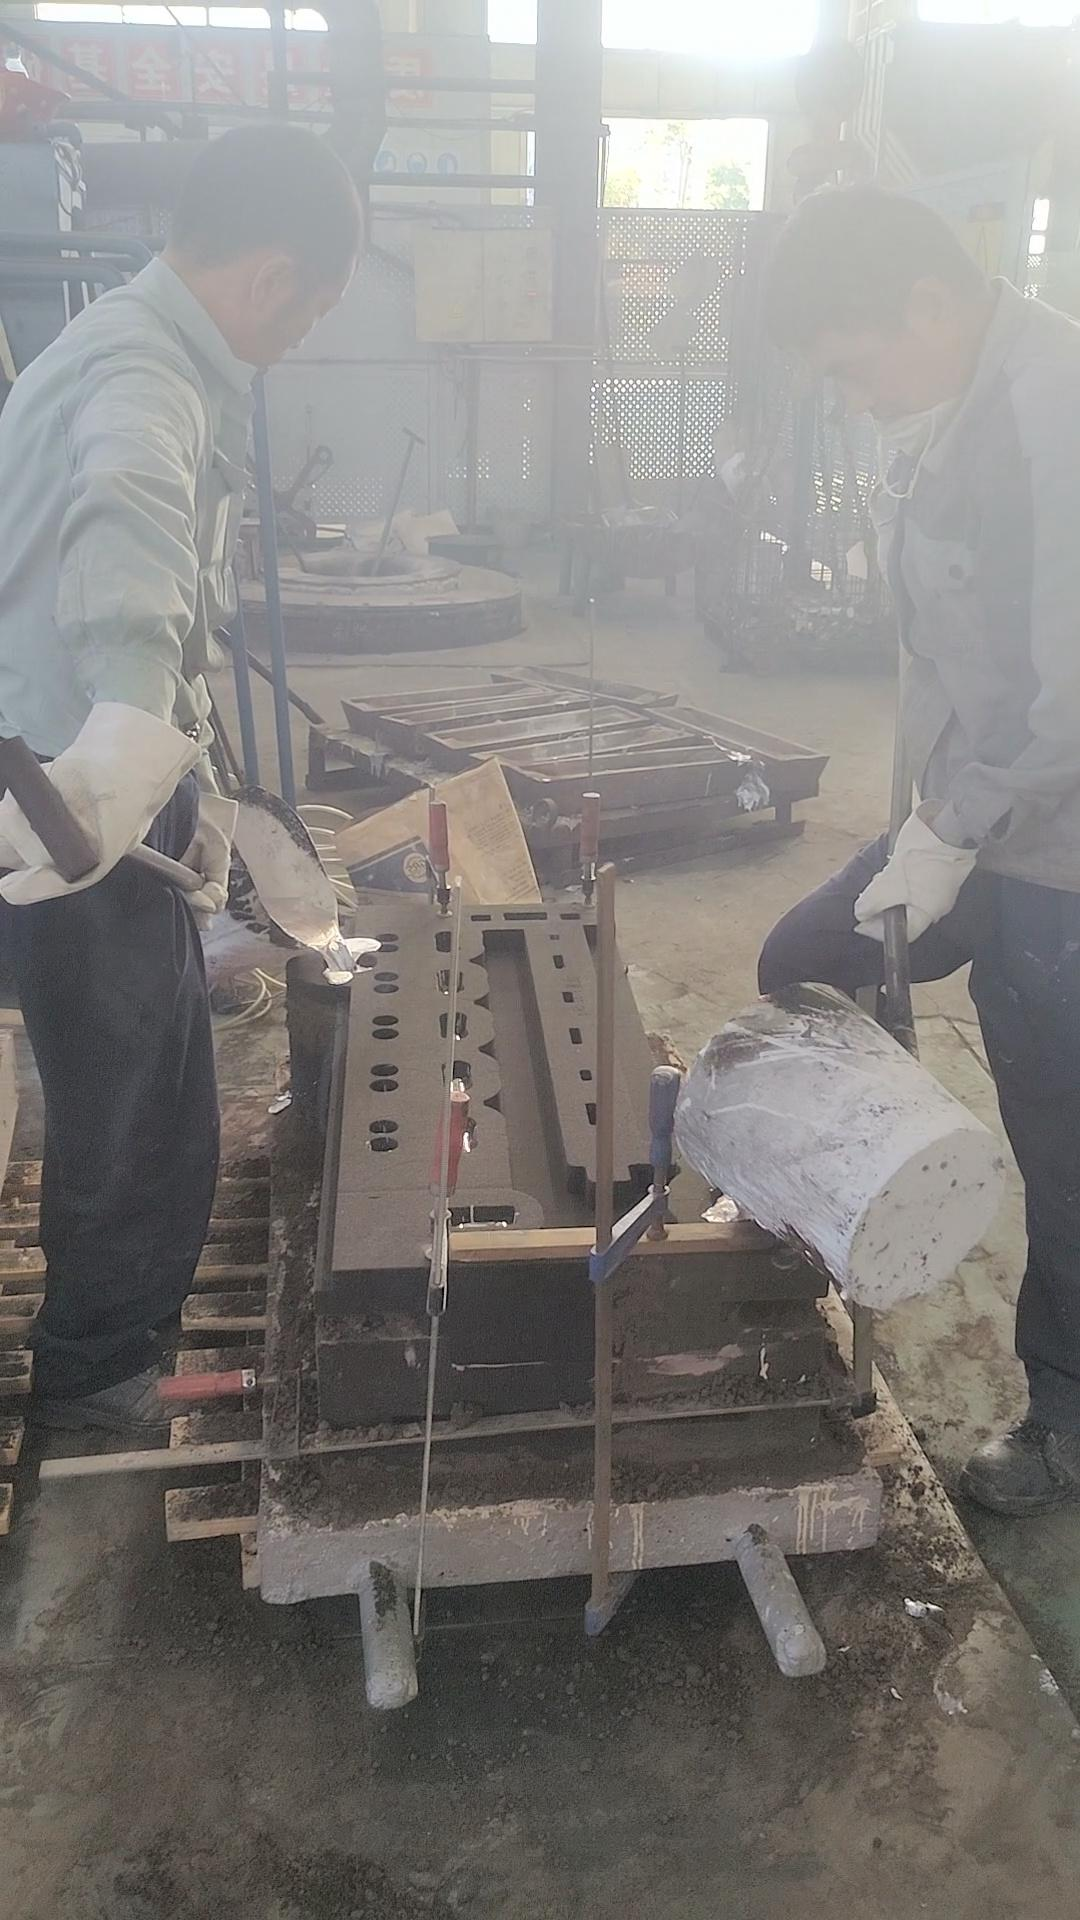pouring hole: (700, 1185, 773, 1224), (319, 951, 378, 973)
